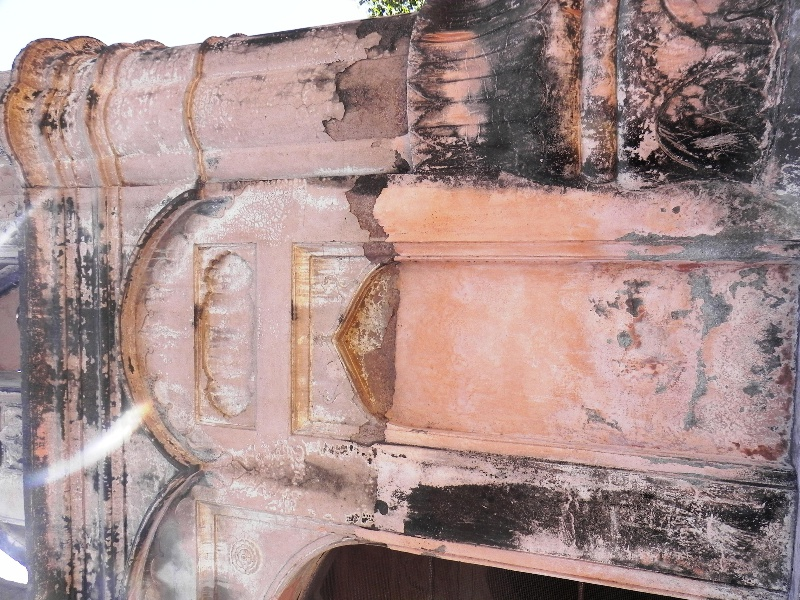Spalling: (323, 57, 416, 143), (349, 305, 402, 444), (342, 172, 405, 262)
